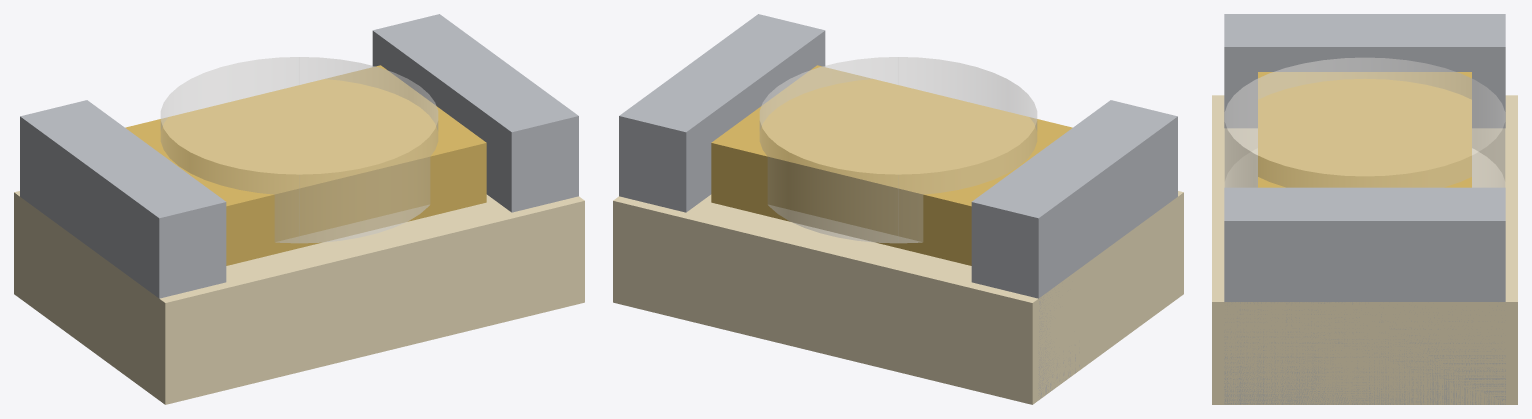
Rendered from led-0805.glb.
3 views of the same model, side by side, from view 1: azimuth 30°, elevation 25°; view 2: azimuth 150°, elevation 25°; view 3: azimuth 270°, elevation 25° (orthographic).
Visible parts, largest first — view 1: object 1, object 4, body, object 3; view 2: object 1, object 4, body, object 3; view 3: object 4, object 1, object 3, body.
Boxes of the visible parts, box(x1,y1,x2,y2) form: object 1: box(14, 191, 584, 404); object 4: box(20, 14, 578, 298); body: box(125, 65, 486, 265); object 3: box(160, 57, 438, 243); object 1: box(613, 191, 1183, 404); object 4: box(619, 14, 1177, 399); body: box(711, 65, 1072, 265); object 3: box(759, 57, 1037, 243); object 4: box(1224, 14, 1505, 404); object 1: box(1212, 95, 1517, 404); object 3: box(1224, 57, 1505, 187); body: box(1258, 72, 1471, 187).
Bounding box in the file's own units: 0.002 × 0.000832 × 0.00125.
